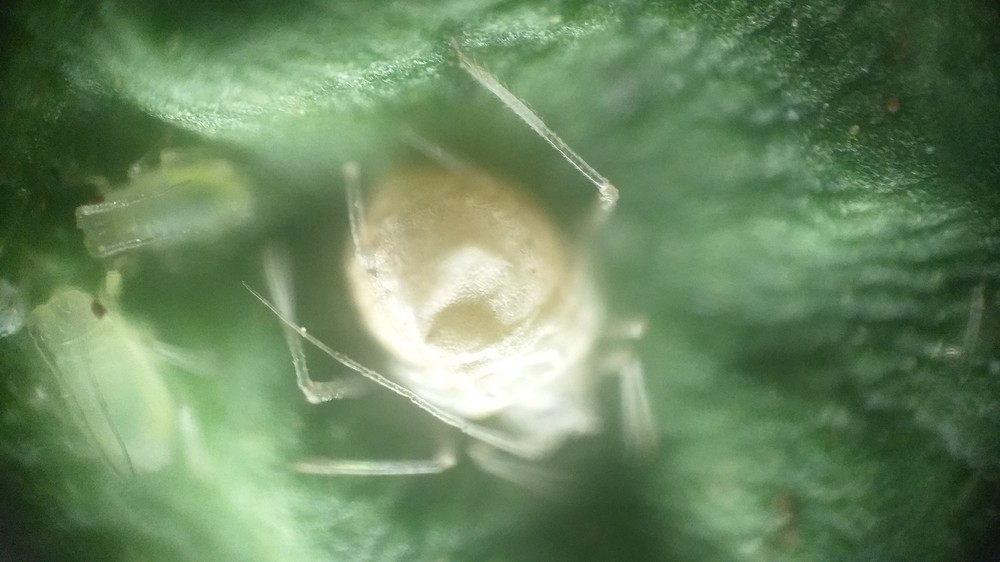Pulgon: (295, 88, 708, 505), (23, 275, 236, 493), (78, 142, 279, 278)
